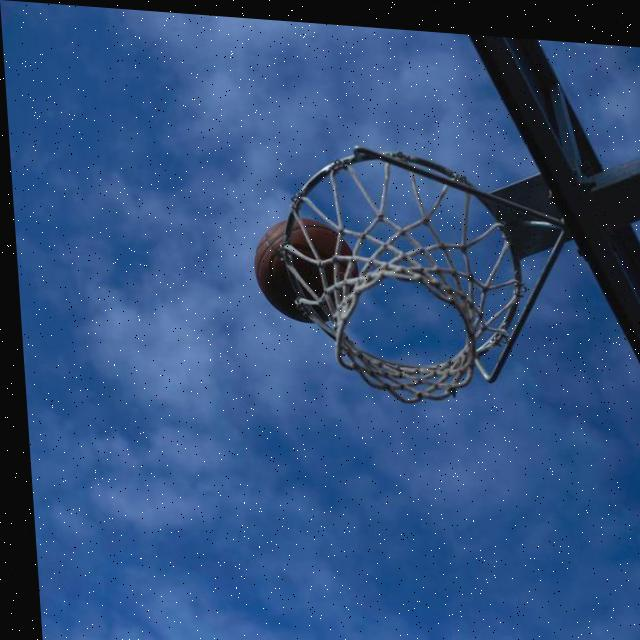hoop: (245, 152, 572, 438)
